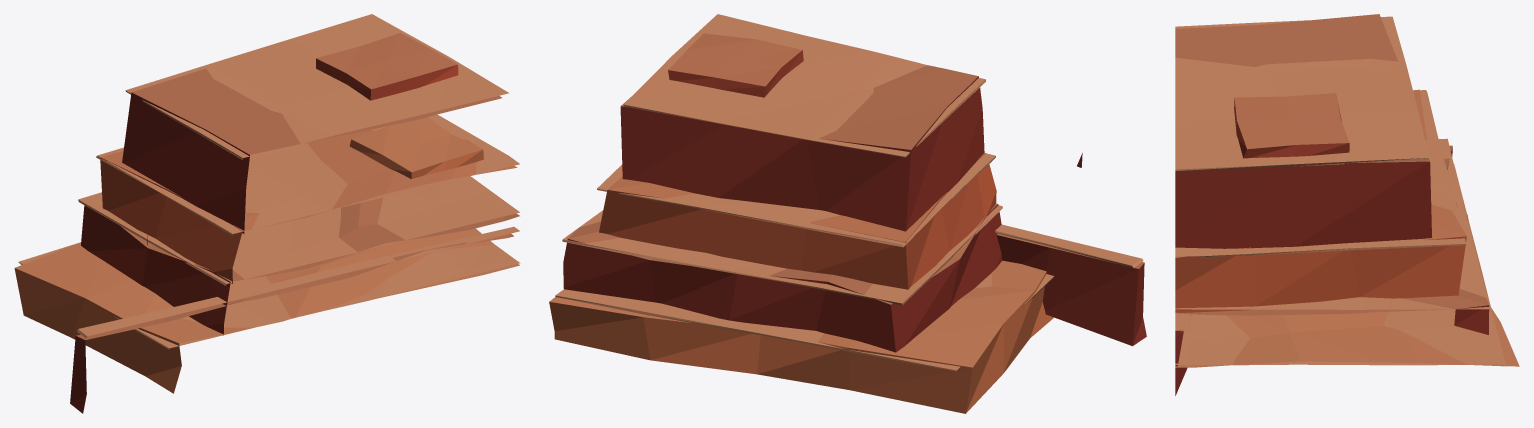
The picture shows the model from 3 angles, left to right: view 1: azimuth 30°, elevation 25°; view 2: azimuth 150°, elevation 25°; view 3: azimuth 270°, elevation 25°; orthographic projection. The views are drawn at different scales.
Visible parts, largest first — view 1: scene.5.4; view 2: scene.5.4; view 3: scene.5.4.
Boxes of the visible parts, x1,y1,x2,y2 form: scene.5.4: (14, 14, 520, 413); scene.5.4: (549, 14, 1146, 413); scene.5.4: (1175, 14, 1519, 395).
Bounding box in the file's own units: 44.82 × 22.74 × 27.82.
